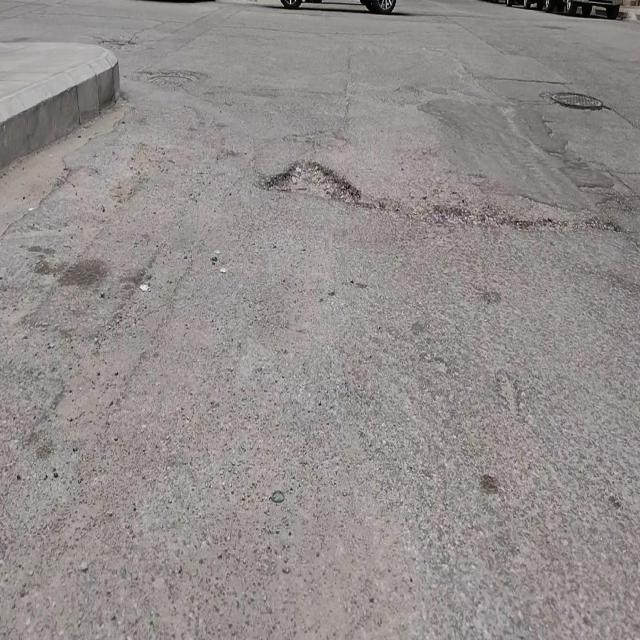Pothole: (264, 159, 359, 203)
